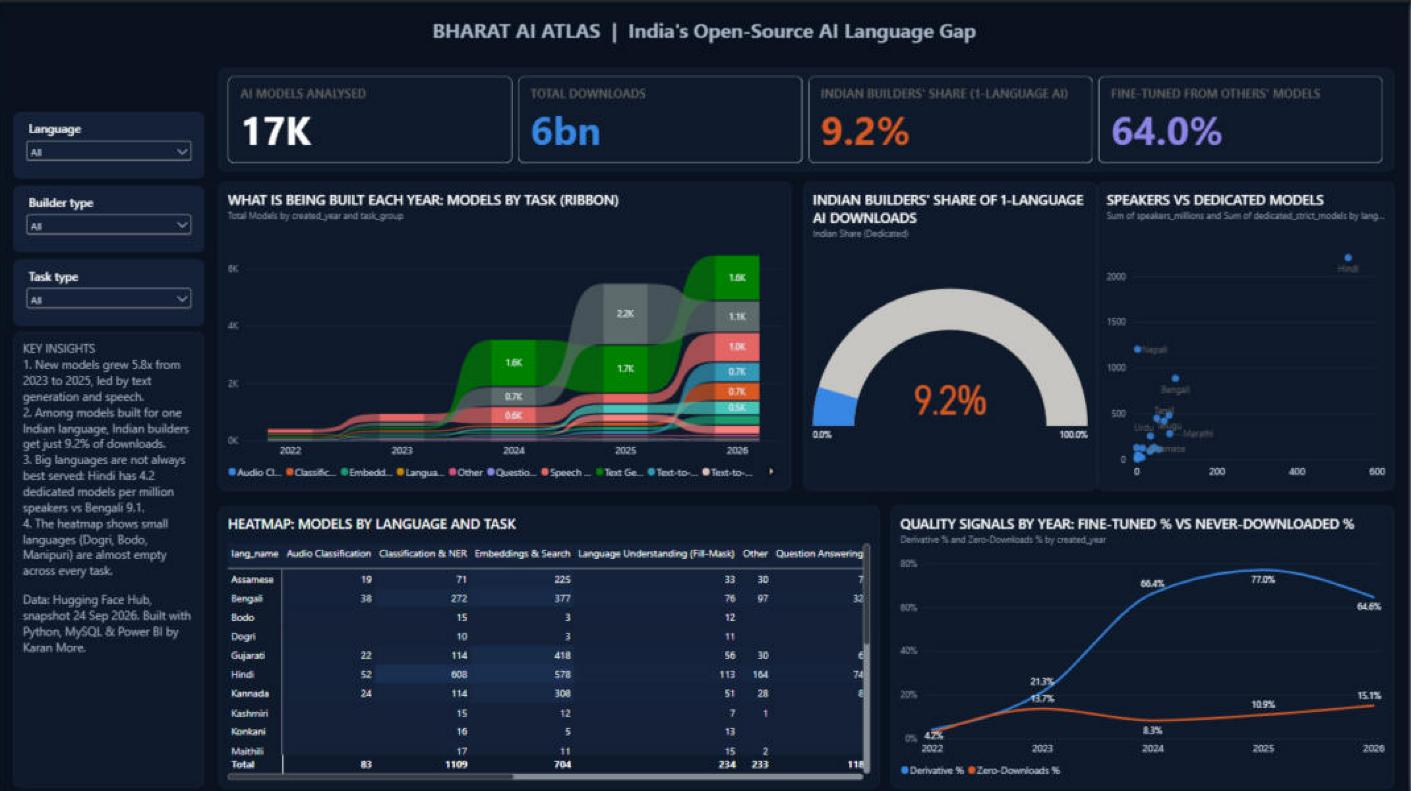

What the dashboard file says about the page in this screenshot:
{"tool":"powerbi","page":{"name":"Languages & Trends","canvas":[1920,1080],"ordinal":2},"visuals":[{"type":"textbox","box":[20,10,1880,70],"z":0},{"type":"cardVisual","fields":{"Data":["_Measures.Total Models","_Measures.Total Downloads","_Measures.Indian Share (Dedicated)","_Measures.Derivative %"]},"box":[300,90,1600,140],"z":1000},{"type":"slicer","fields":{"Values":["languages.lang_name"]},"box":[20,150,260,90],"z":2000},{"type":"slicer","fields":{"Values":["organizations.org_type"]},"box":[20,250,260,90],"z":3000},{"type":"slicer","fields":{"Values":["models.task_group"]},"box":[20,350,260,90],"z":4000},{"type":"textbox","box":[20,450,260,620],"z":8000},{"type":"ribbonChart","title":"WHAT IS BEING BUILT EACH YEAR: MODELS BY TASK (RIBBON)","fields":{"Category":["models.created_year"],"Series":["models.task_group"],"Y":["_Measures.Total Models"]},"box":[300,245,780,420],"z":8001},{"type":"gauge","title":"INDIAN BUILDERS'' SHARE OF 1-LANGUAGE AI DOWNLOADS","fields":{"Y":["_Measures.Indian Share (Dedicated)"]},"box":[1095,245,400,420],"z":8002},{"type":"scatterChart","title":"SPEAKERS VS DEDICATED MODELS","fields":{"Category":["vw_language_coverage.lang_name"],"X":["Sum(vw_language_coverage.speakers_millions)"],"Y":["Sum(vw_language_coverage.dedicated_strict_models)"]},"box":[1495,245,405,420],"z":8003},{"type":"pivotTable","title":"HEATMAP: MODELS BY LANGUAGE AND TASK","fields":{"Columns":["models.task_group"],"Rows":["languages.lang_name"],"Values":["_Measures.Total Models"]},"box":[300,685,900,385],"z":8004},{"type":"lineChart","title":"QUALITY SIGNALS BY YEAR: FINE-TUNED % VS NEVER-DOWNLOADED %","fields":{"Category":["models.created_year"],"Y":["_Measures.Derivative %","_Measures.Zero-Downloads %"]},"box":[1215,685,685,385],"z":8005}]}

Visuals, with their boxes in screenshot pixels (x1, y1, x2, y2), scaled from the page's 1920x1080 canvas onto the 1411x791 screenshot:
textbox: (left=15, top=7, right=1396, bottom=59)
cardVisual - _Measures.Total Models x _Measures.Total Downloads: (left=220, top=66, right=1396, bottom=168)
slicer - languages.lang_name: (left=15, top=110, right=206, bottom=176)
slicer - organizations.org_type: (left=15, top=183, right=206, bottom=249)
slicer - models.task_group: (left=15, top=256, right=206, bottom=322)
textbox: (left=15, top=330, right=206, bottom=784)
"WHAT IS BEING BUILT EACH YEAR: MODELS BY TASK (RIBBON)" ribbonChart: (left=220, top=179, right=794, bottom=487)
"INDIAN BUILDERS'' SHARE OF 1-LANGUAGE AI DOWNLOADS" gauge: (left=805, top=179, right=1099, bottom=487)
"SPEAKERS VS DEDICATED MODELS" scatterChart: (left=1099, top=179, right=1396, bottom=487)
"HEATMAP: MODELS BY LANGUAGE AND TASK" pivotTable: (left=220, top=502, right=882, bottom=784)
"QUALITY SIGNALS BY YEAR: FINE-TUNED % VS NEVER-DOWNLOADED %" lineChart: (left=893, top=502, right=1396, bottom=784)
